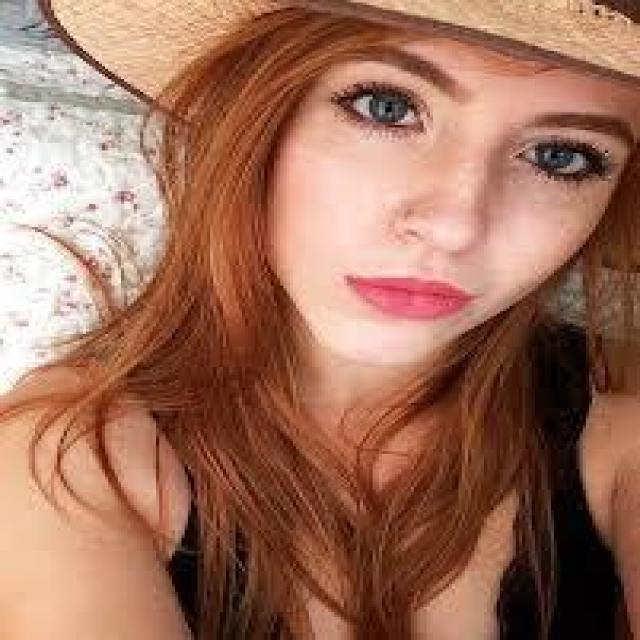person: (6, 0, 634, 635)
